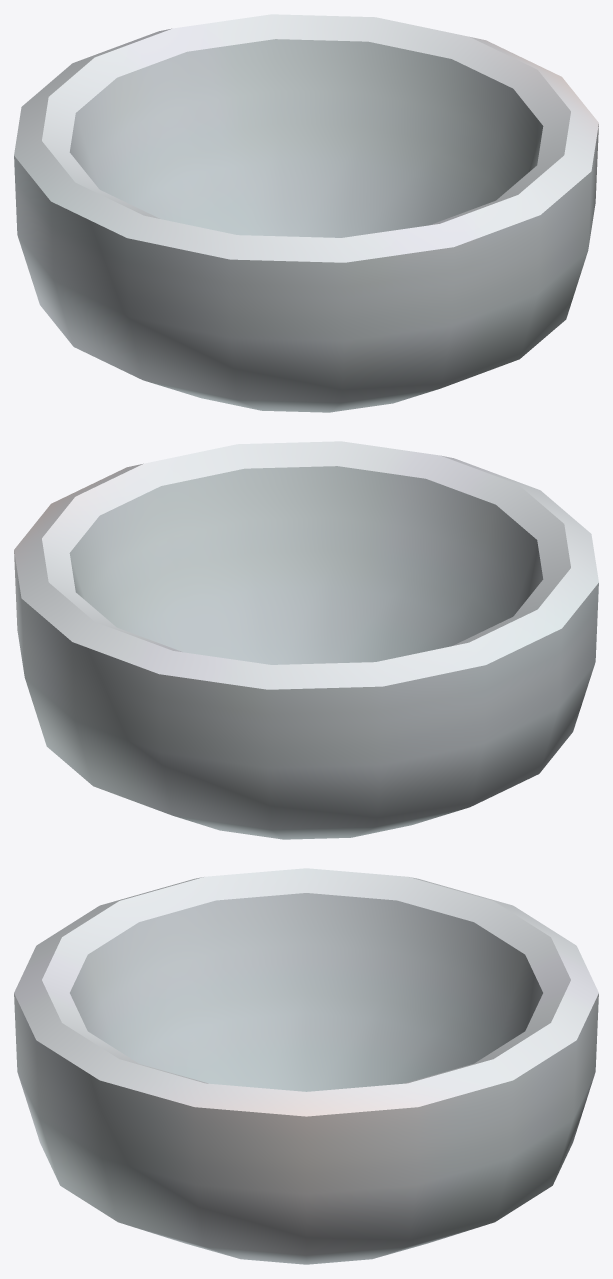
File: kkr.bowl_small.glb
3 views of the same model, one above another, from view 1: azimuth 30°, elevation 25°; view 2: azimuth 150°, elevation 25°; view 3: azimuth 270°, elevation 25° (orthographic).
Visible parts, largest first — view 1: bowl_small; view 2: bowl_small; view 3: bowl_small.
Part boxes in pixels (x1,y1,x2,y2): bowl_small: (14, 14, 598, 412); bowl_small: (14, 441, 598, 839); bowl_small: (14, 868, 598, 1264).
Size of the model in its own units: 0.2067 by 0.0827 by 0.2067.
Materials: 1 (1 with a texture image).
